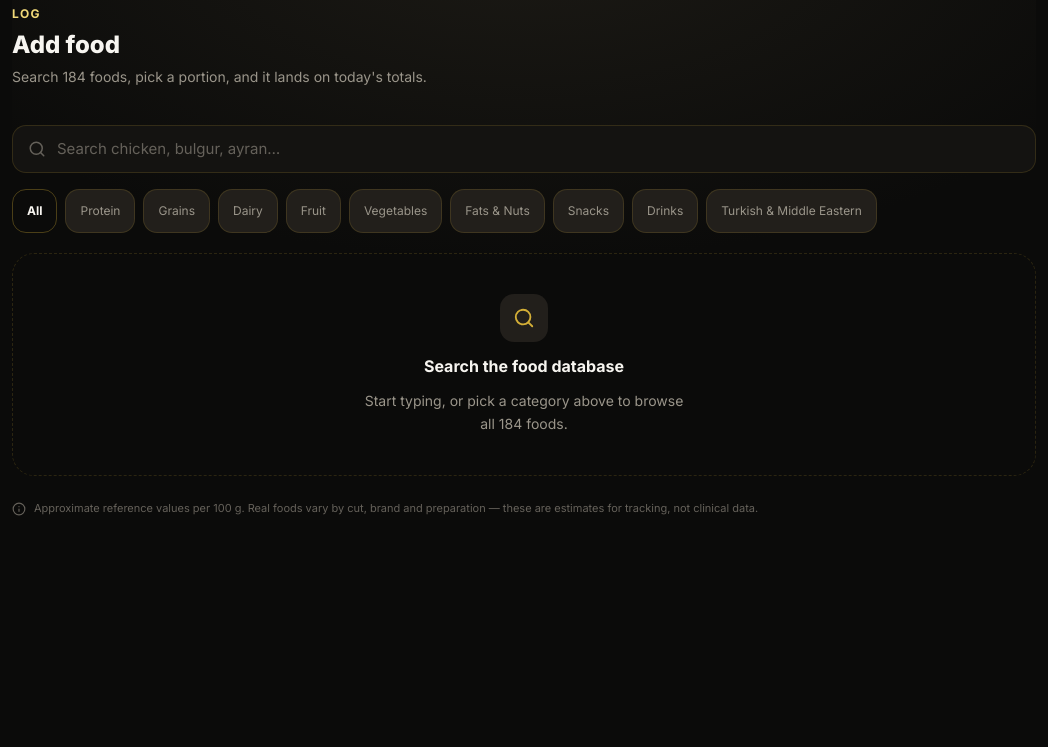
Test: LogScreen — search › filters by category
What coordinates should you click on to do the following:
click the button "dairy"
I would click on:
 (248, 211)
Its box is [218,189,278,233].
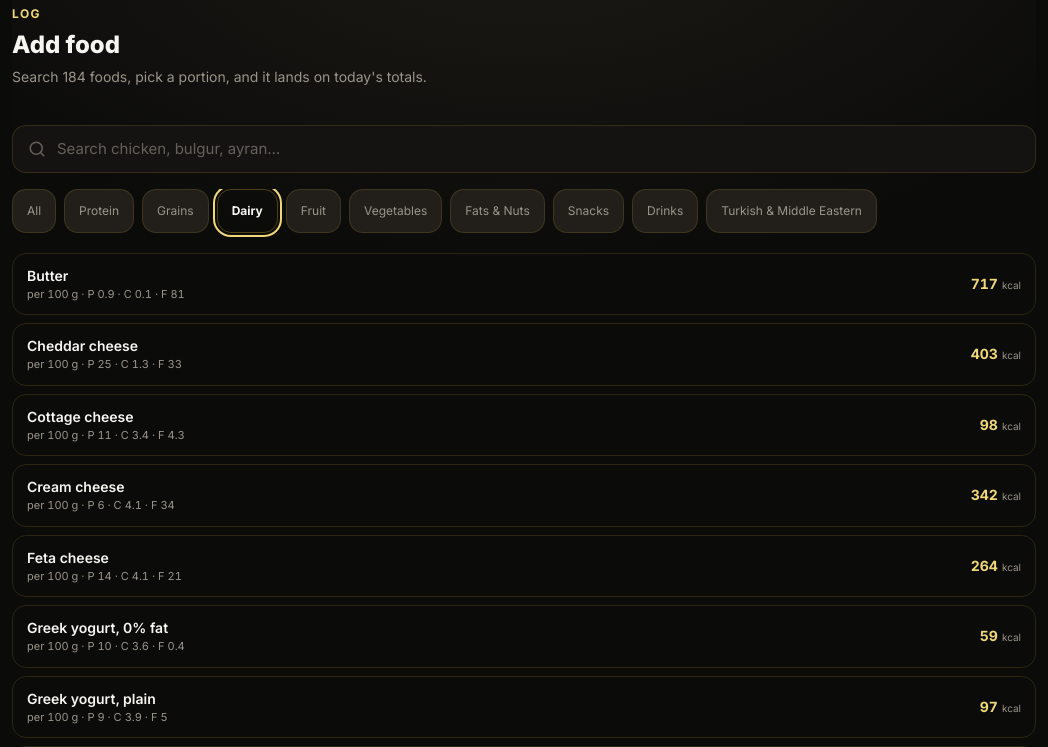
Result: the button "Cheddar cheese per 100 g · P 25 · C 1.3 · F 33 403kcal" is shown at [12,323,1036,386]
